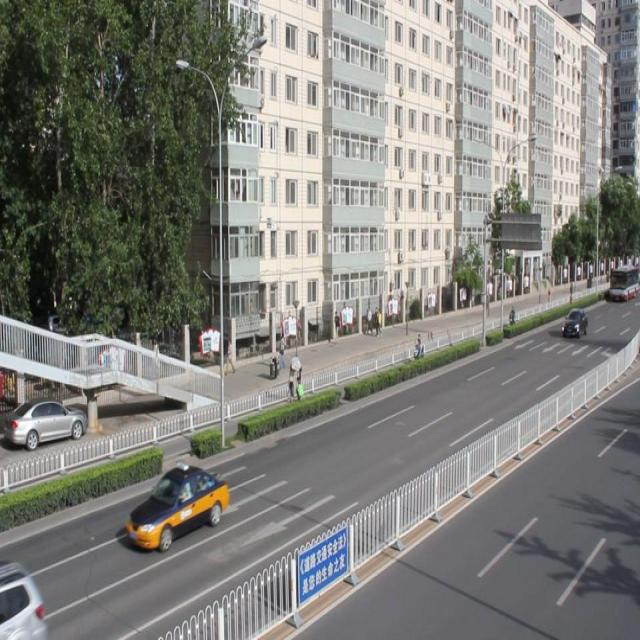car: (130, 463, 228, 548), (0, 556, 44, 640)
